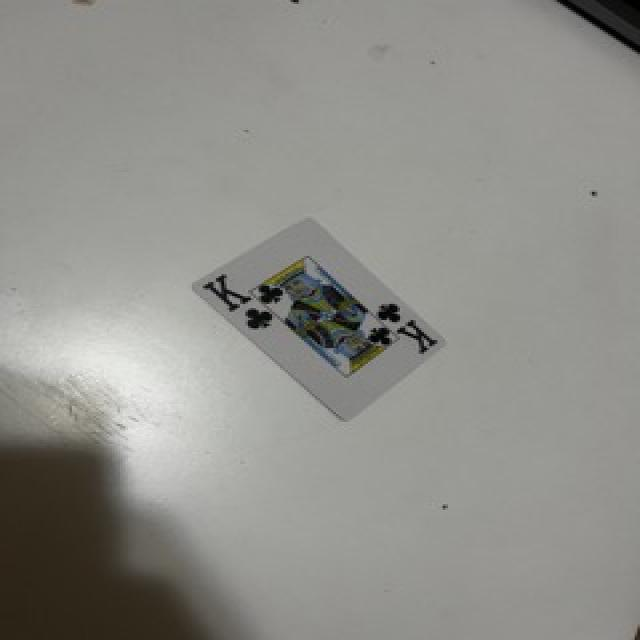King of clubs: (195, 219, 443, 420)
